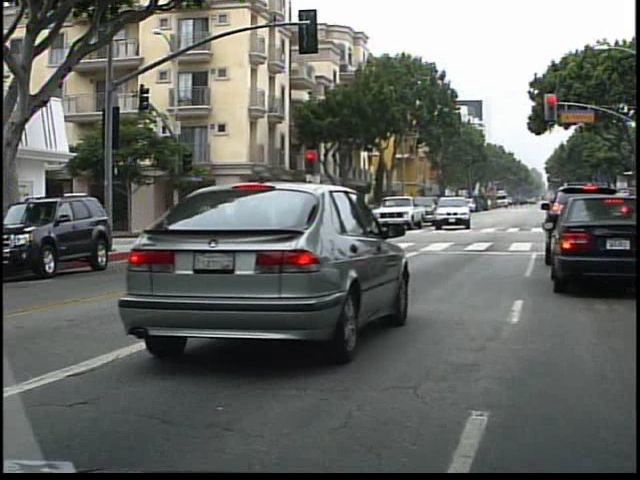person: (196, 191, 215, 238), (216, 193, 235, 235)
